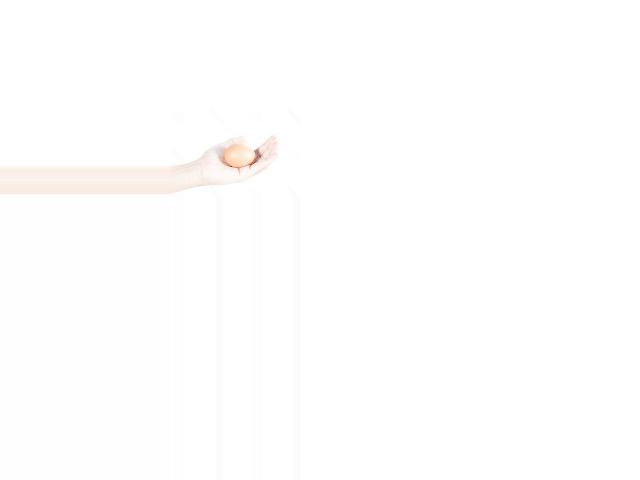egg: (224, 144, 254, 167)
